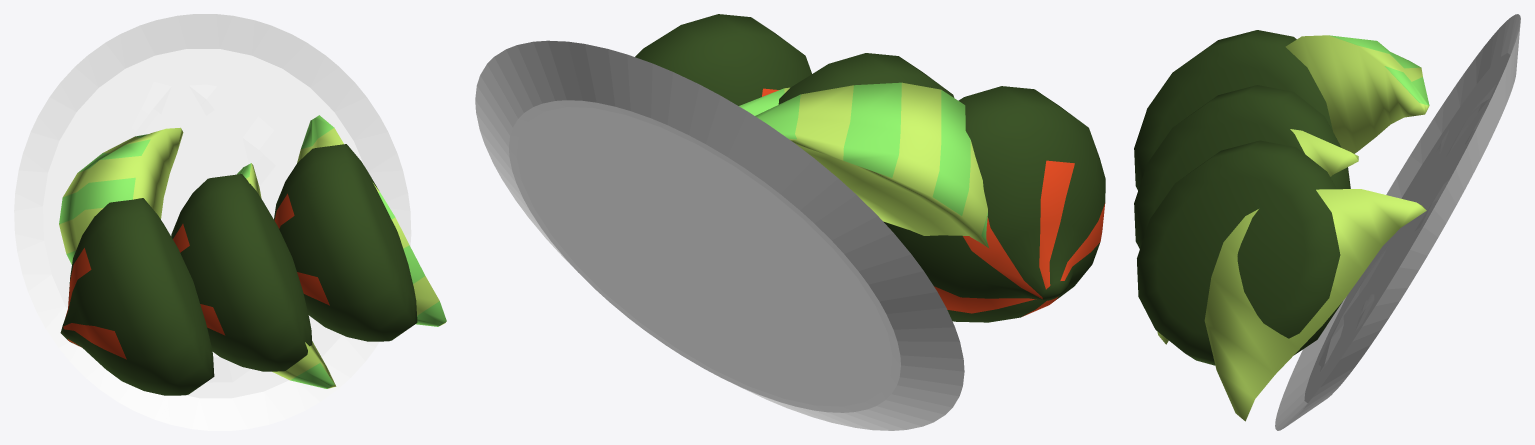
Rendered from Dumpling - Icon.fbx.
3 views of the same model, side by side, from view 1: azimuth 30°, elevation 25°; view 2: azimuth 150°, elevation 25°; view 3: azimuth 270°, elevation 25° (orthographic). The views are drawn at different scales.
Parts seen in each view (by area): view 1: Cylinder, Sphere, Sphere_1, Sphere_2, Circle, Plane, Circle_1, Circle_2; view 2: Cylinder, Sphere, Circle, Sphere_1, Sphere_2, Circle_2; view 3: Sphere_1, Cylinder, Circle_1, Sphere_2, Sphere, Circle, Plane, Circle_2.
Part boxes in pixels (x1,y1,x2,y2): Cylinder: (14,14,411,430); Sphere: (60,198,214,395); Sphere_1: (274,144,417,341); Sphere_2: (171,174,312,371); Circle: (59,127,183,264); Plane: (118,81,275,382); Circle_1: (297,115,446,326); Circle_2: (237,163,336,388); Cylinder: (475,40,964,430); Sphere: (883,86,1105,322); Circle: (755,82,988,247); Sphere_1: (635,14,811,105); Sphere_2: (778,53,954,104); Circle_2: (739,87,789,115); Sphere_1: (1137,140,1342,365); Cylinder: (1275,14,1520,430); Circle_1: (1204,189,1426,421); Sphere_2: (1134,85,1350,248); Sphere: (1134,30,1332,190); Circle: (1285,35,1429,153); Plane: (1318,85,1495,371); Circle_2: (1157,129,1358,344).
Size of the model in its own units: 73.67 by 61.16 by 56.56.
